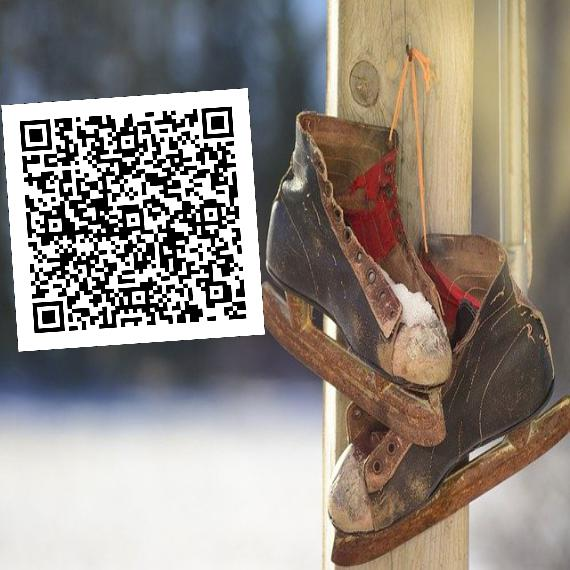qr_code: (1, 88, 264, 351)
